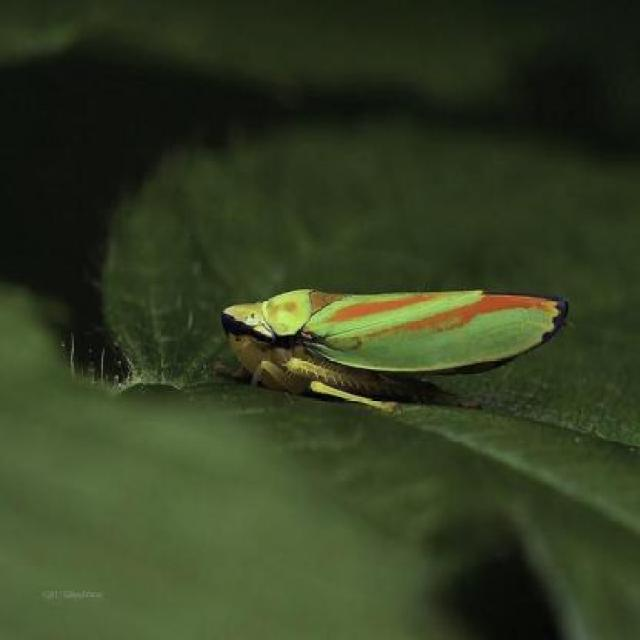green-leafhopper: (223, 284, 571, 408)
